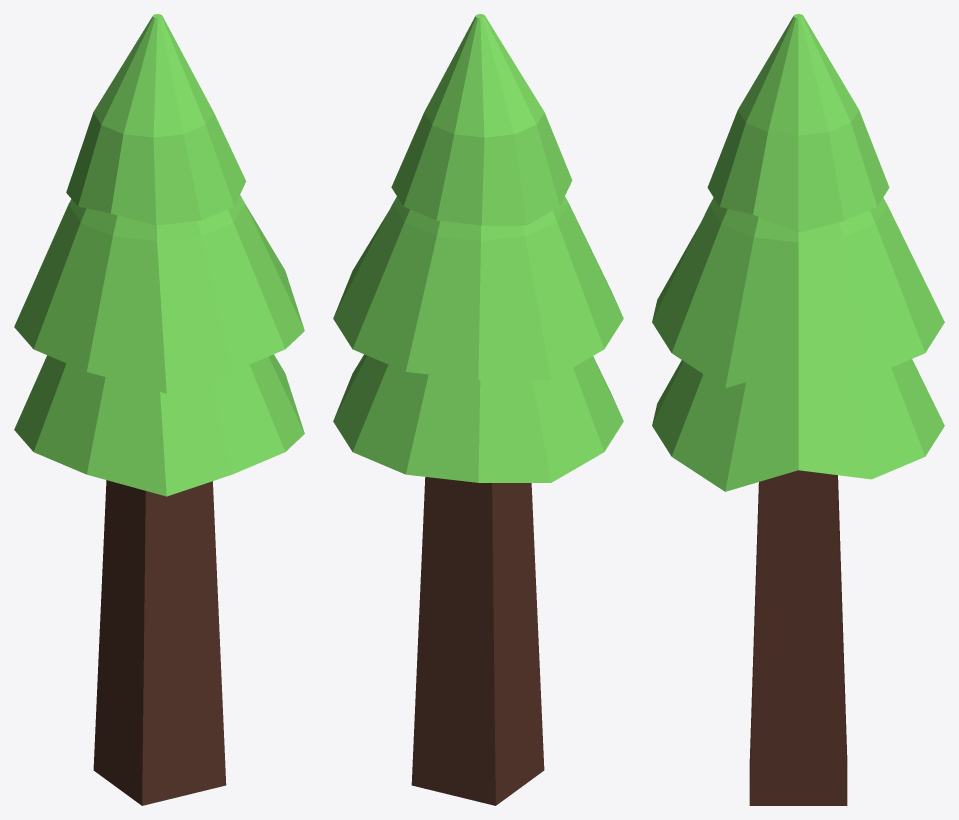
File: tree3.fbx
3 renders of one model, left to right at view 1: azimuth 30°, elevation 25°; view 2: azimuth 150°, elevation 25°; view 3: azimuth 270°, elevation 25°, orthographic.
Visible parts, largest first — view 1: tree2; view 2: tree2; view 3: tree2.
Part boxes in pixels (x1,y1,x2,y2): tree2: (14,14,304,805); tree2: (333,14,623,805); tree2: (652,14,944,805).
Size of the model in its own units: 347 by 1004 by 347.
